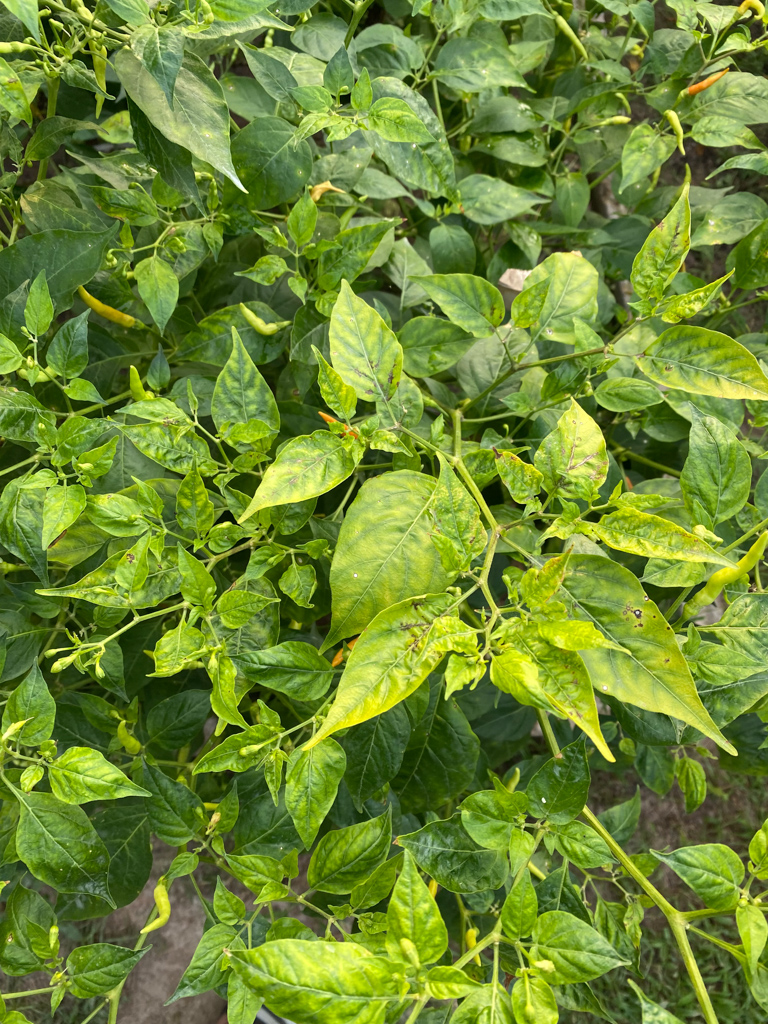Leaf Curl Disease: (629, 195, 695, 302), (650, 268, 735, 324), (441, 653, 485, 706)
frog-eye leafspot: (616, 596, 648, 631), (125, 551, 136, 565)
